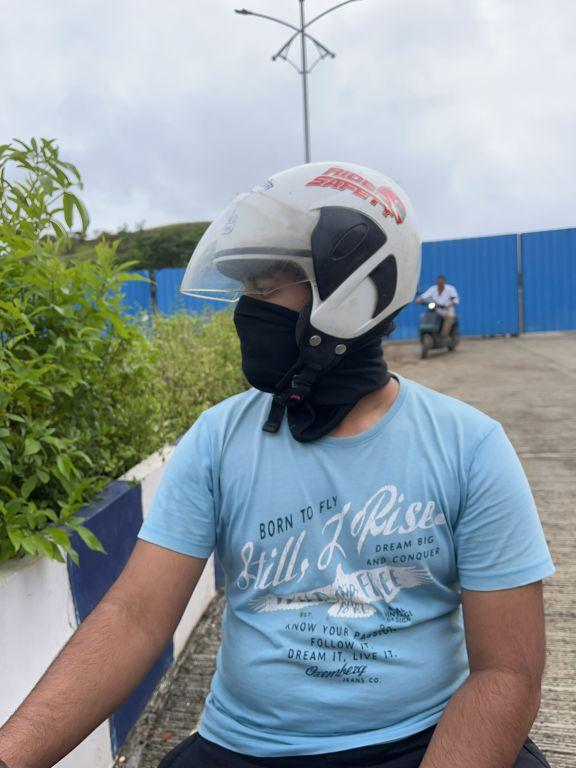helmet: (169, 150, 433, 390)
